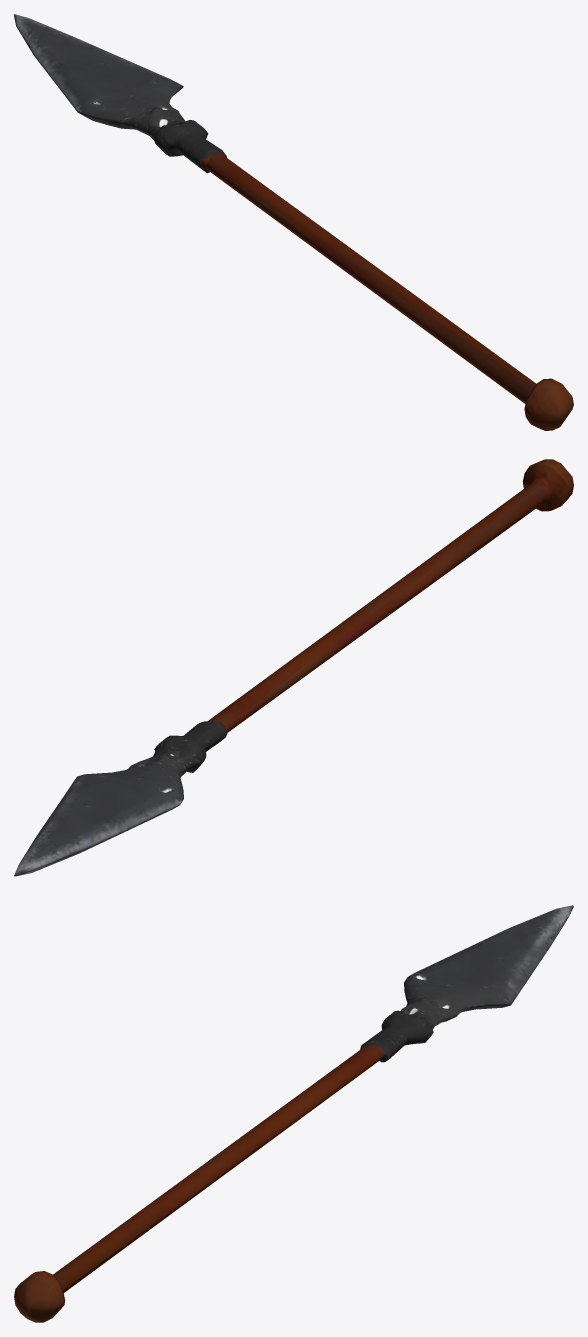
File: g_javelin.fbx
The picture shows the model from 3 angles, top to bottom: view 1: azimuth 30°, elevation 25°; view 2: azimuth 150°, elevation 25°; view 3: azimuth 330°, elevation 25°; orthographic projection.
Visible parts, largest first — view 1: tripo_node_9148a5af-83a0-446b-a80d-7d18c22ec979; view 2: tripo_node_9148a5af-83a0-446b-a80d-7d18c22ec979; view 3: tripo_node_9148a5af-83a0-446b-a80d-7d18c22ec979.
Part boxes in pixels (left/top/right/bottom): tripo_node_9148a5af-83a0-446b-a80d-7d18c22ec979: left=14, top=14, right=573, bottom=430; tripo_node_9148a5af-83a0-446b-a80d-7d18c22ec979: left=14, top=459, right=573, bottom=876; tripo_node_9148a5af-83a0-446b-a80d-7d18c22ec979: left=14, top=905, right=573, bottom=1322.
Bounding box in the file's own units: 0.1817 × 0.0776 × 1.64.
Materials: 1 (1 with a texture image).
